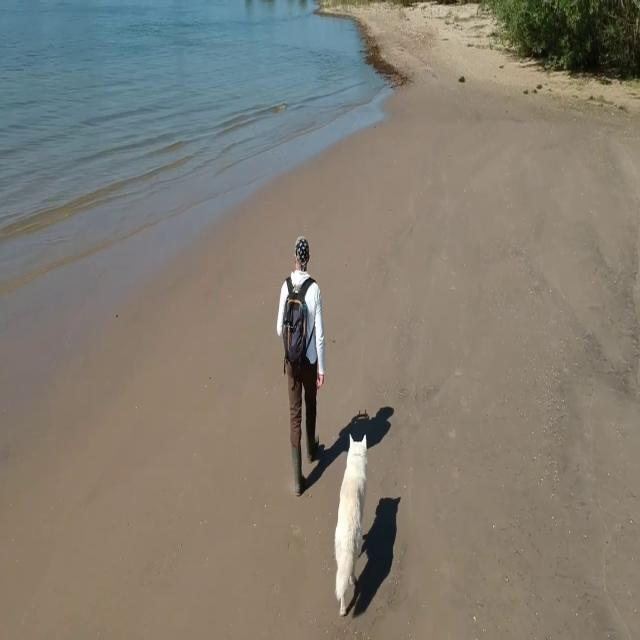Unleashed_Dog: (290, 431, 368, 613)
